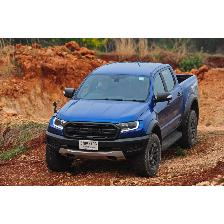NON-EV: (46, 53, 200, 178)
